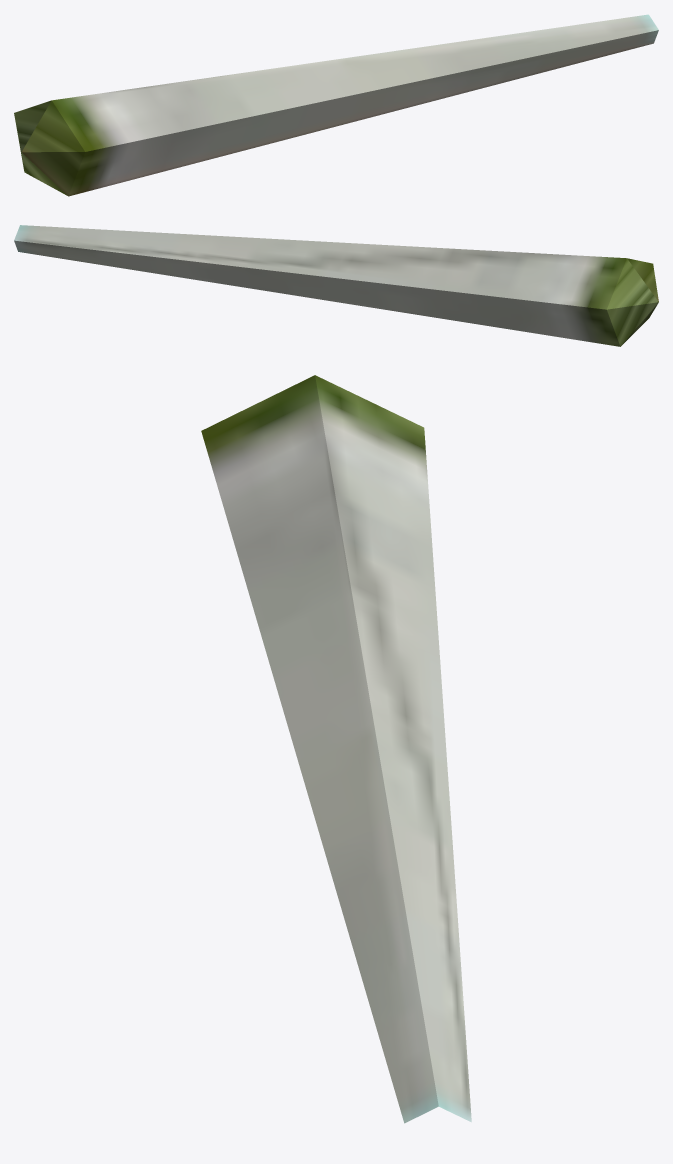
File: STATIC_JOINT_ZAUCHEM.glb
The picture shows the model from 3 angles, top to bottom: view 1: azimuth 30°, elevation 25°; view 2: azimuth 150°, elevation 25°; view 3: azimuth 270°, elevation 25°; orthographic projection. The views are drawn at different scales.
Parts seen in each view (by area): view 1: STATIC_JOINT_ZAUCHEM; view 2: STATIC_JOINT_ZAUCHEM; view 3: STATIC_JOINT_ZAUCHEM.
Boxes of the visible parts, left/top/right/bottom form: STATIC_JOINT_ZAUCHEM: left=14, top=14, right=658, bottom=196; STATIC_JOINT_ZAUCHEM: left=14, top=225, right=658, bottom=346; STATIC_JOINT_ZAUCHEM: left=201, top=375, right=471, bottom=1123.
Bounding box in the file's own units: 0.156 × 0.0264 × 0.0301.
Materials: 1 (1 with a texture image).
